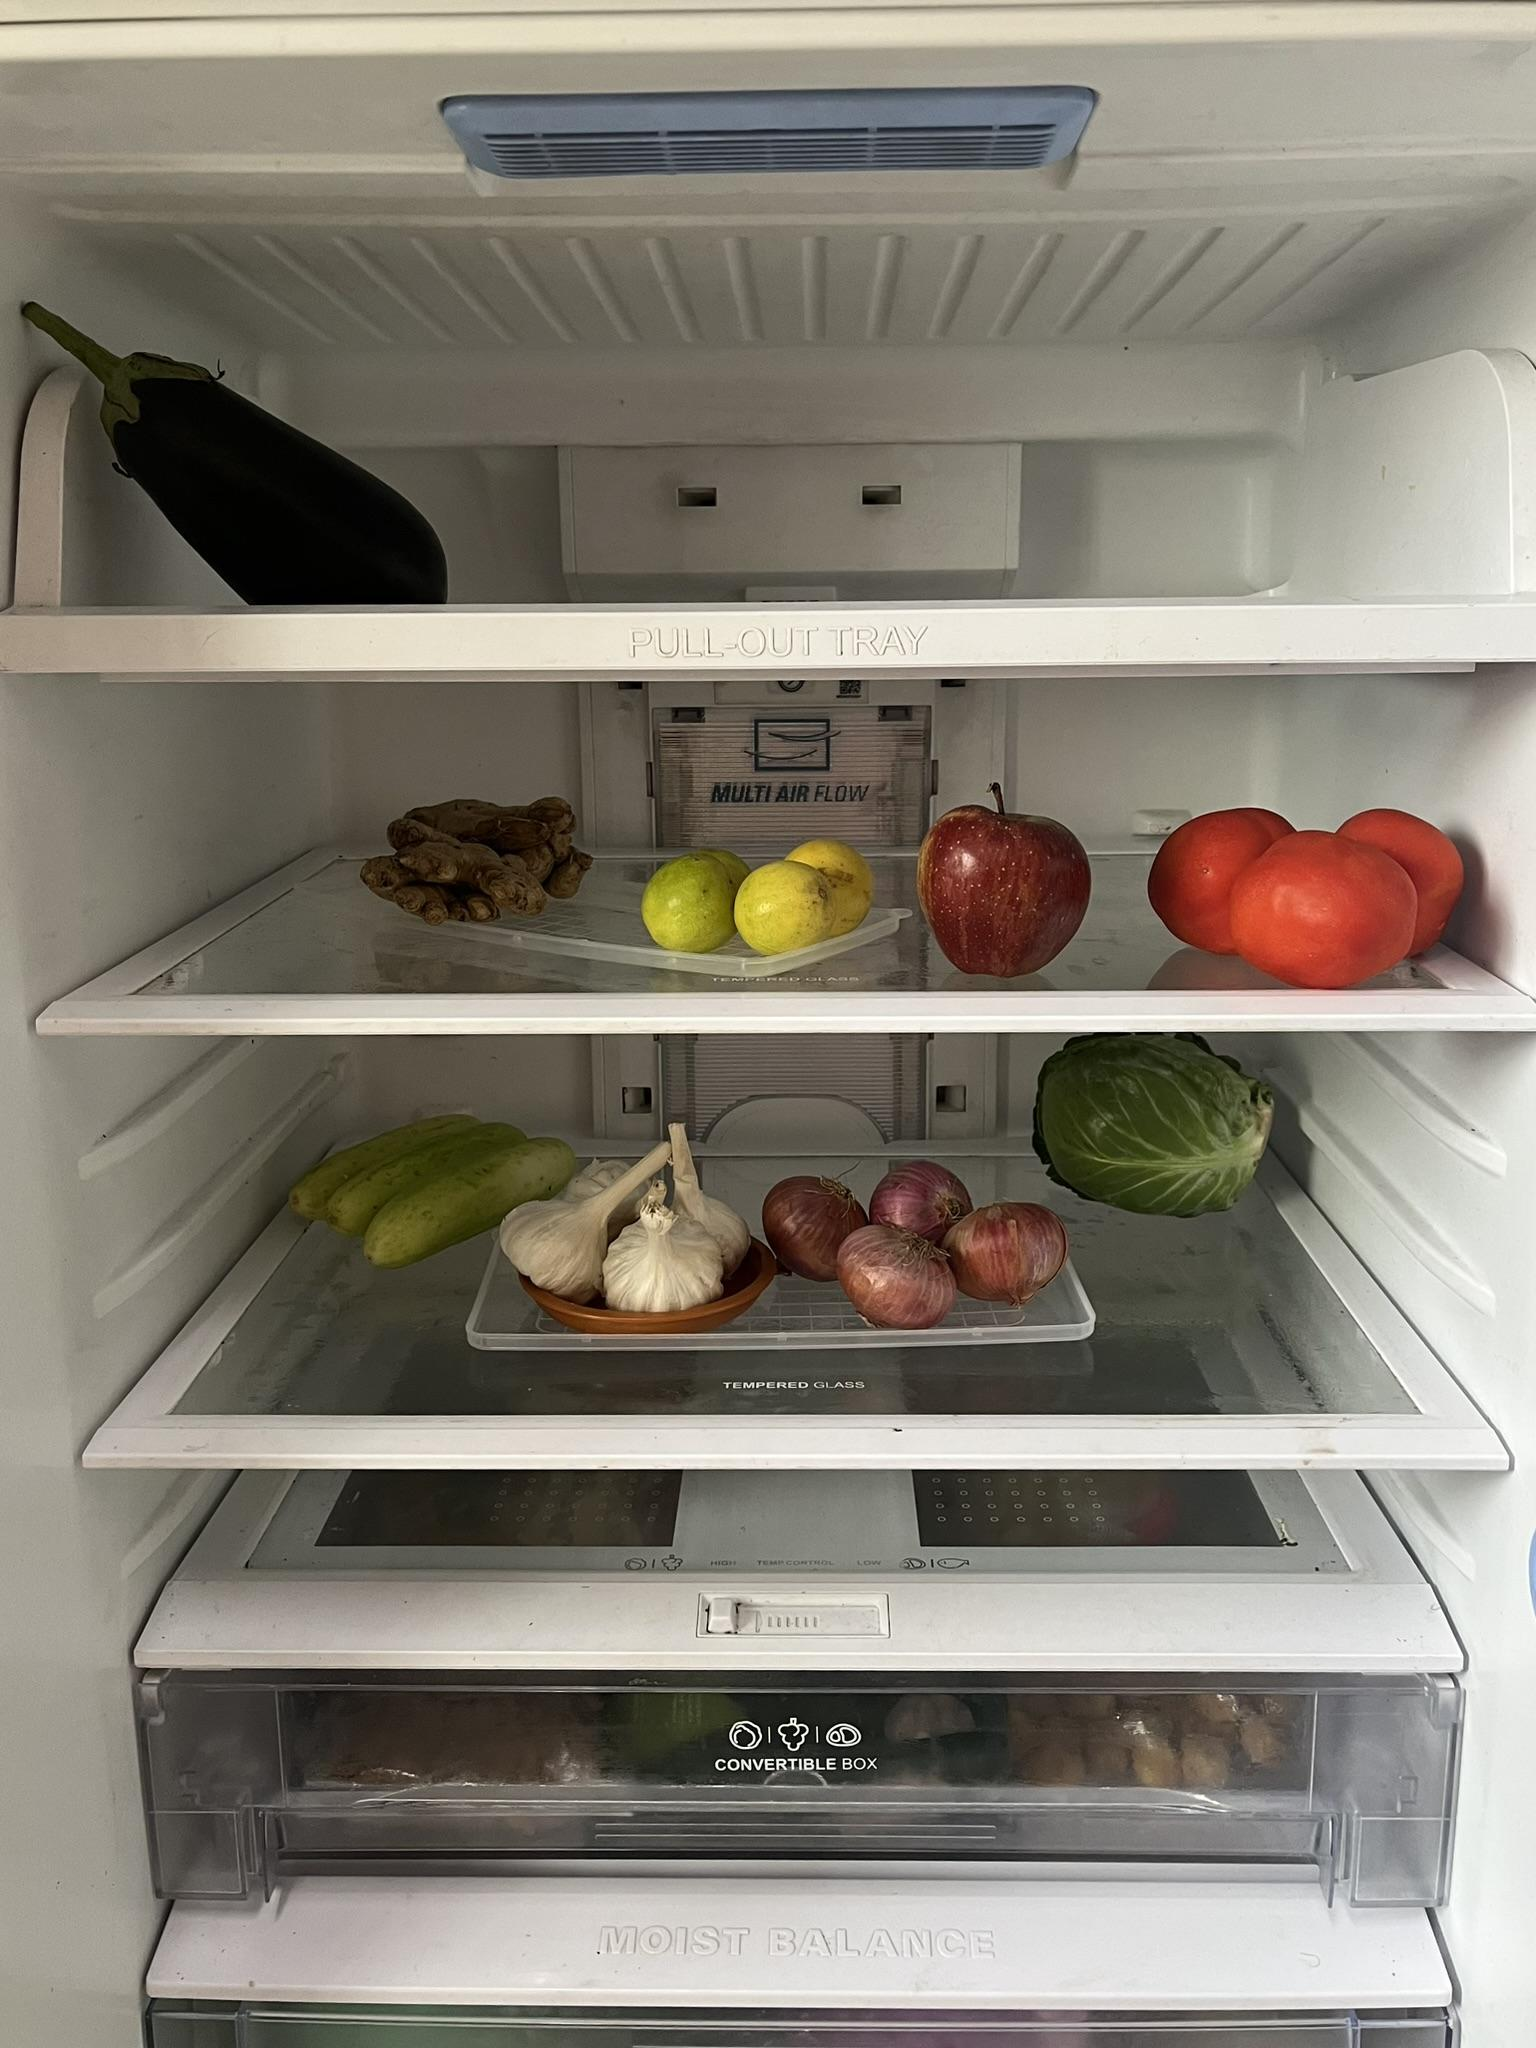apple: (918, 776, 1096, 980)
bringal: (11, 284, 453, 608)
cabbage: (1033, 1030, 1278, 1216)
cucumber: (292, 1108, 576, 1256)
garlic: (503, 1116, 766, 1321)
ginger: (365, 782, 591, 922)
lemon: (642, 842, 878, 951)
onion: (768, 1159, 1075, 1322)
tomato: (1149, 800, 1467, 990)
